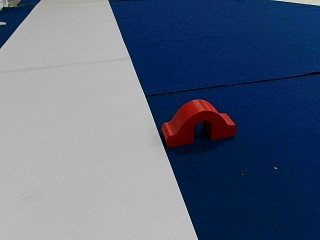bridge: (163, 101, 236, 143)
